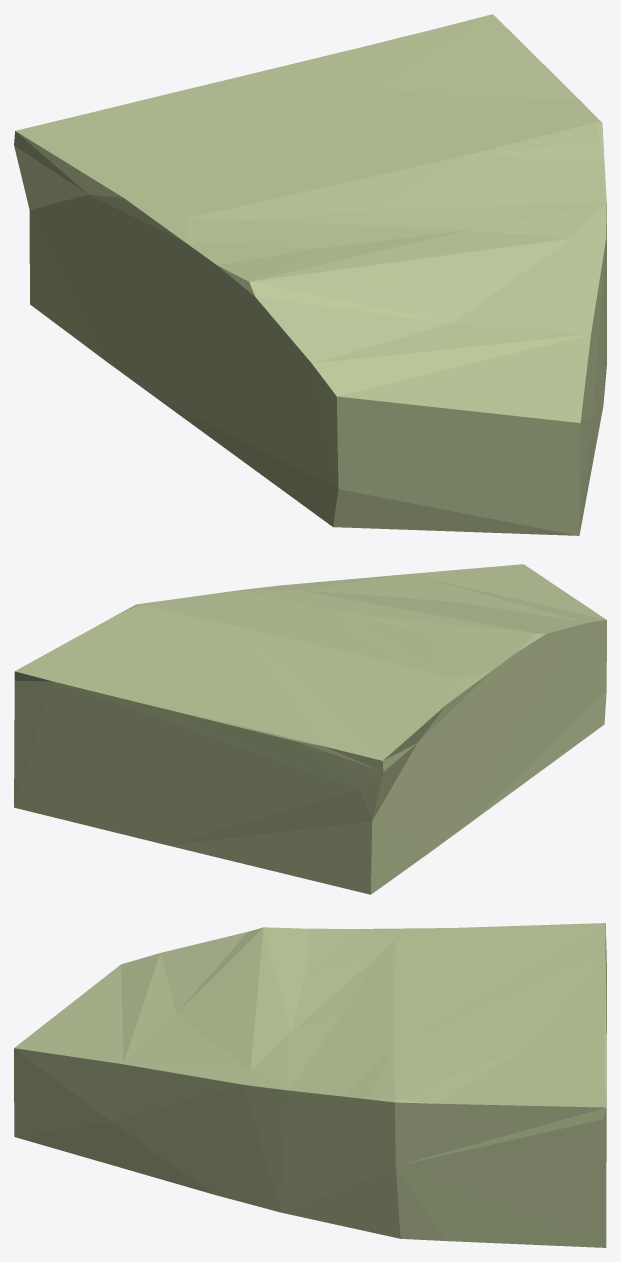
File: ground_3.gltf
3 views of the same model, one above another, from view 1: azimuth 30°, elevation 25°; view 2: azimuth 150°, elevation 25°; view 3: azimuth 270°, elevation 25° (orthographic). The views are drawn at different scales.
Visible parts, largest first — view 1: gym; view 2: gym; view 3: gym.
Boxes of the visible parts, x1,y1,x2,y2 form: gym: (14, 14, 606, 535); gym: (14, 564, 606, 894); gym: (14, 923, 606, 1247).
Size of the model in its own units: 6.89 by 2.48 by 9.3.
